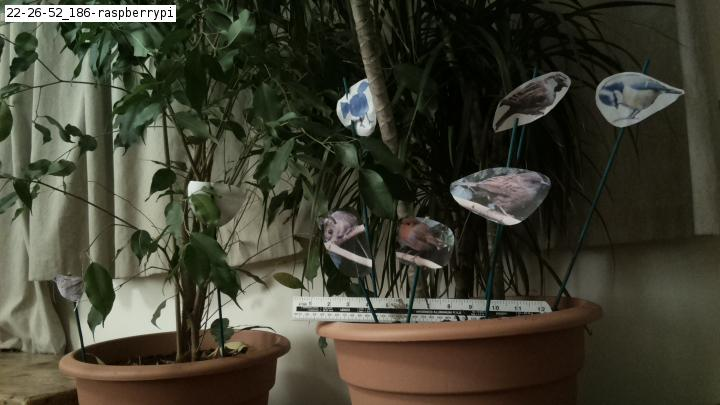blue tit: (594, 74, 686, 131), (337, 75, 387, 148)
dunnock: (453, 170, 555, 227)
mouse: (320, 211, 365, 260)
sparrow: (491, 71, 575, 129)
